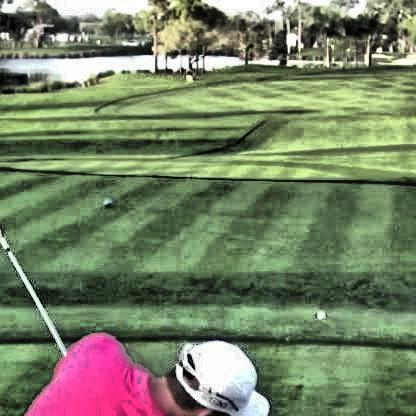golfball: (314, 308, 323, 317)
